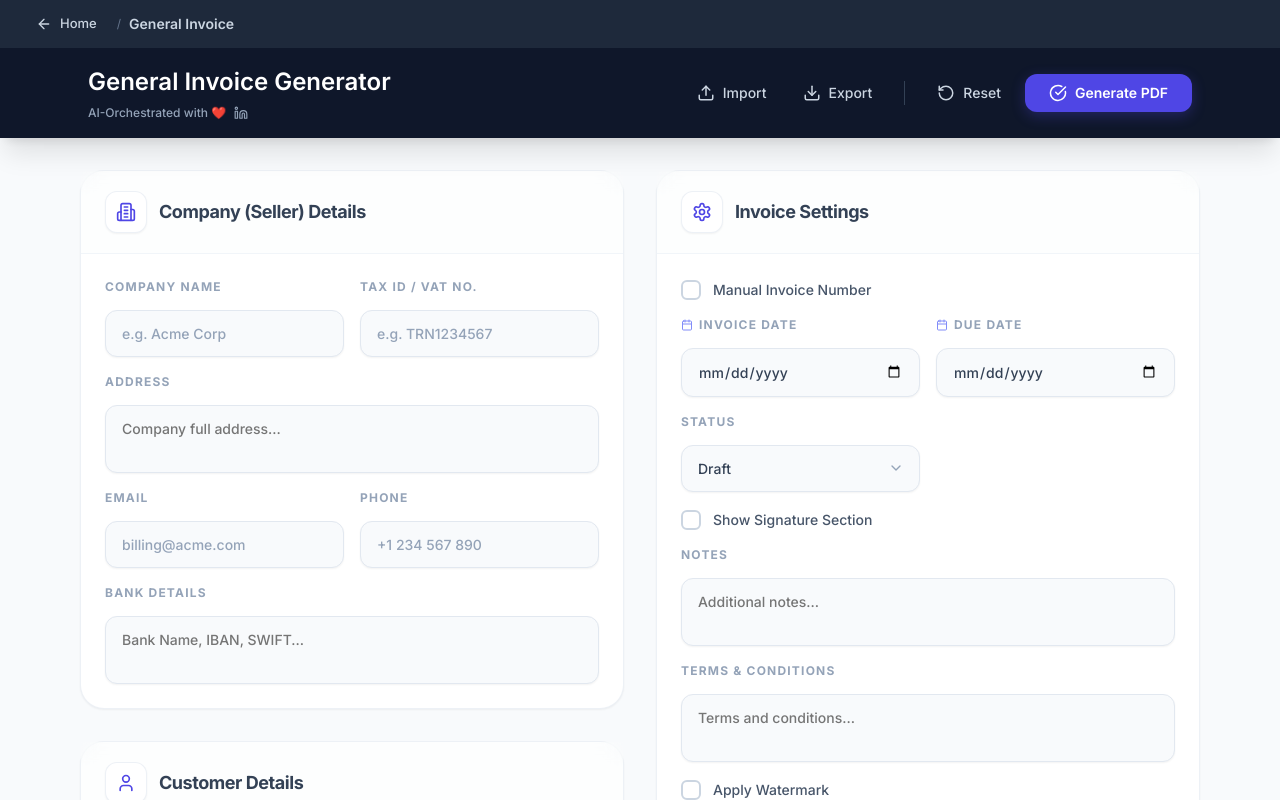
Test case: GeneralInvoiceModule › resets form
Type "To Be Reset" into the field with placeholder "e.g. Acme Corp" at [224, 333], box [105,310,344,356]
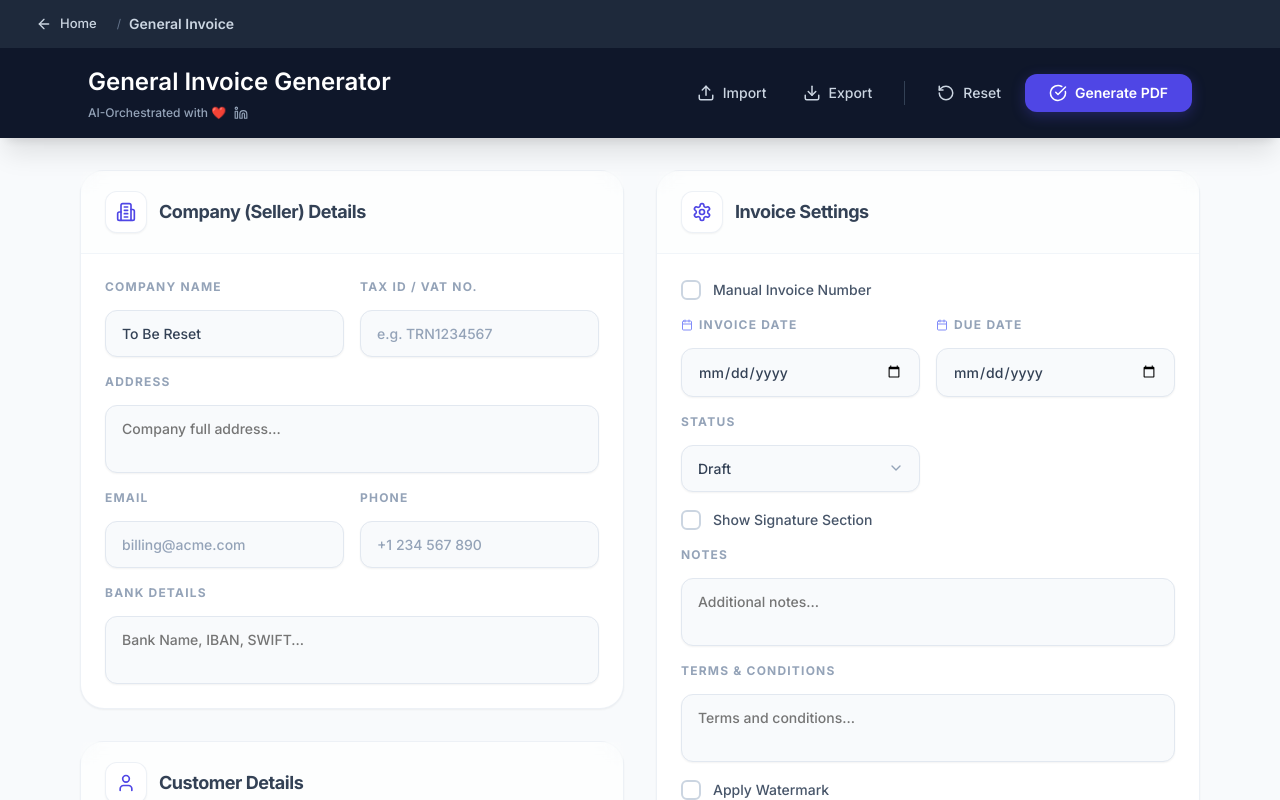
Click the button "Reset" at [969, 92], box [925,76,1013,110]
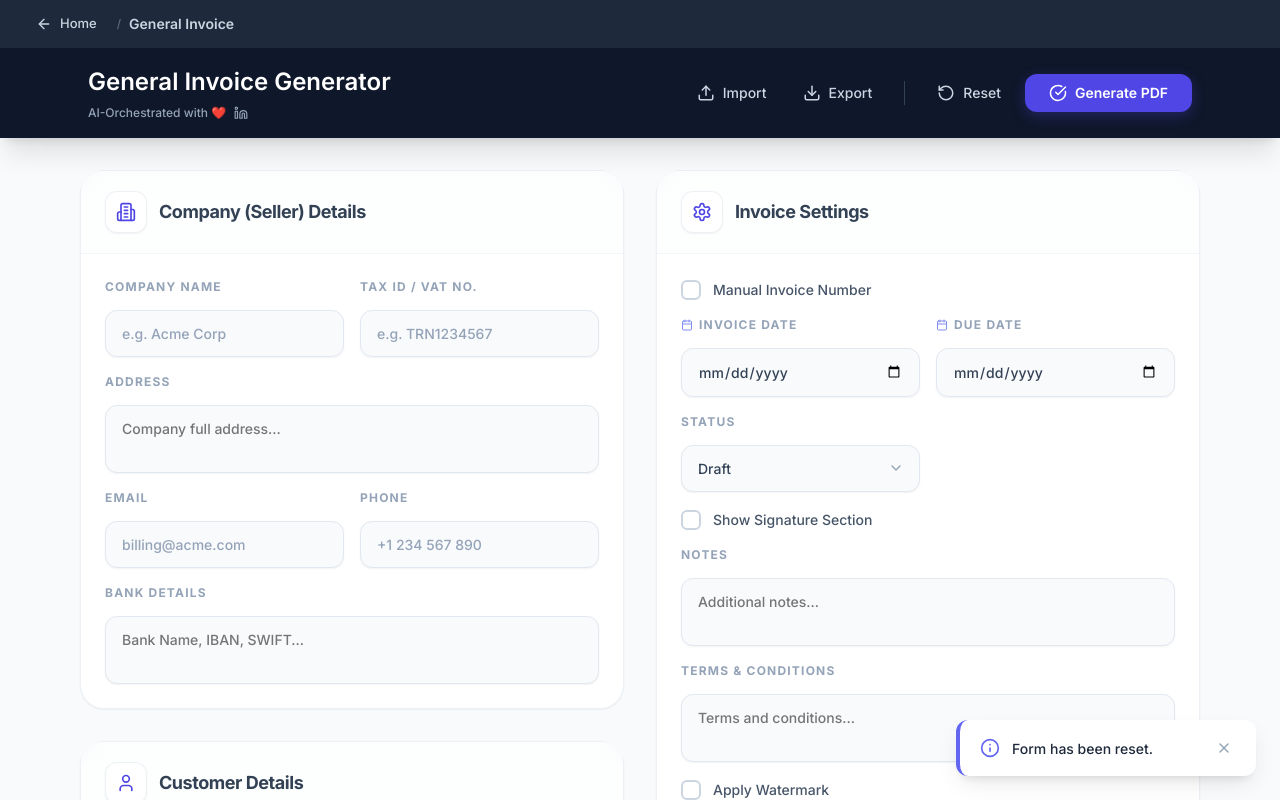
expect the field with placeholder "e.g. Acme Corp" is empty: met, box [105,310,344,356]
